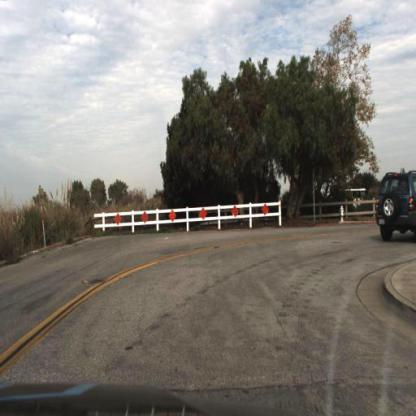car: (376, 171, 416, 242)
